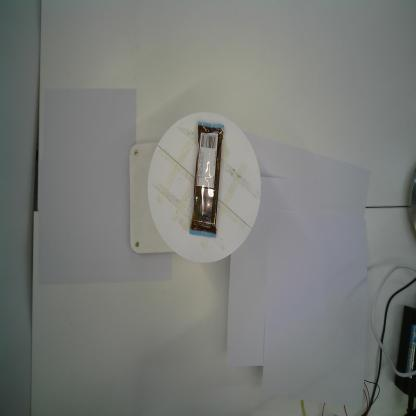Chocolate: (188, 120, 225, 239)
